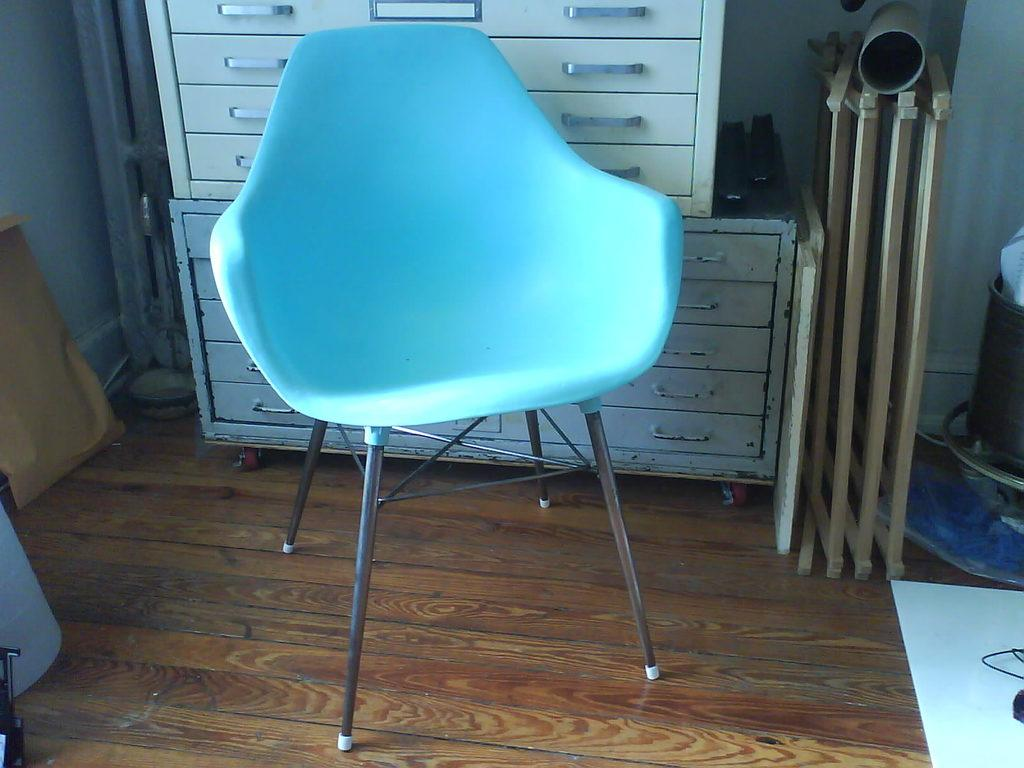cabinet_door: (503, 40, 689, 92), (609, 406, 763, 460), (555, 106, 699, 156), (488, 1, 702, 33), (594, 140, 692, 190), (177, 31, 285, 75), (178, 3, 368, 26), (680, 280, 770, 328), (637, 374, 763, 406), (206, 378, 290, 424), (678, 237, 768, 275), (678, 330, 766, 368), (208, 344, 262, 380)
handle: (557, 109, 647, 132), (556, 54, 650, 76), (560, 5, 654, 26), (214, 51, 280, 79), (642, 420, 714, 444), (226, 1, 288, 26), (654, 382, 706, 404), (230, 97, 268, 126), (248, 394, 287, 418), (687, 248, 727, 270), (678, 296, 722, 316), (664, 346, 710, 362)
